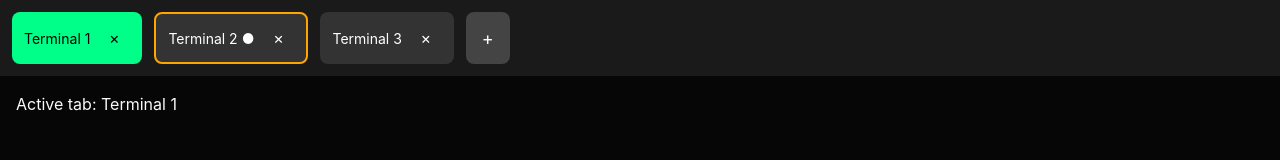
Mobile Tab UI › Mobile Tab Interface Integration › should close tabs when close button is clicked
The width and height of the screenshot is (1280, 160).
Click the button with test id "close-tab-tab2": (278,38) 262,22 -> 294,54
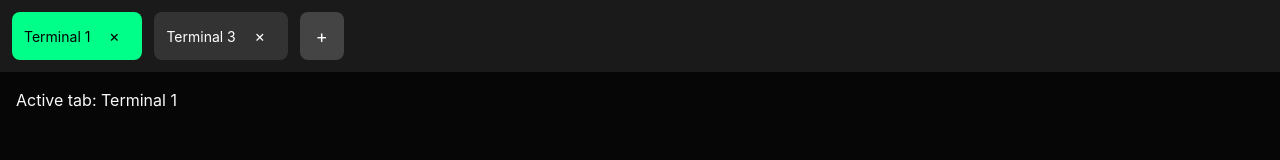
Result: the element with test id "tab-tab2" is gone
